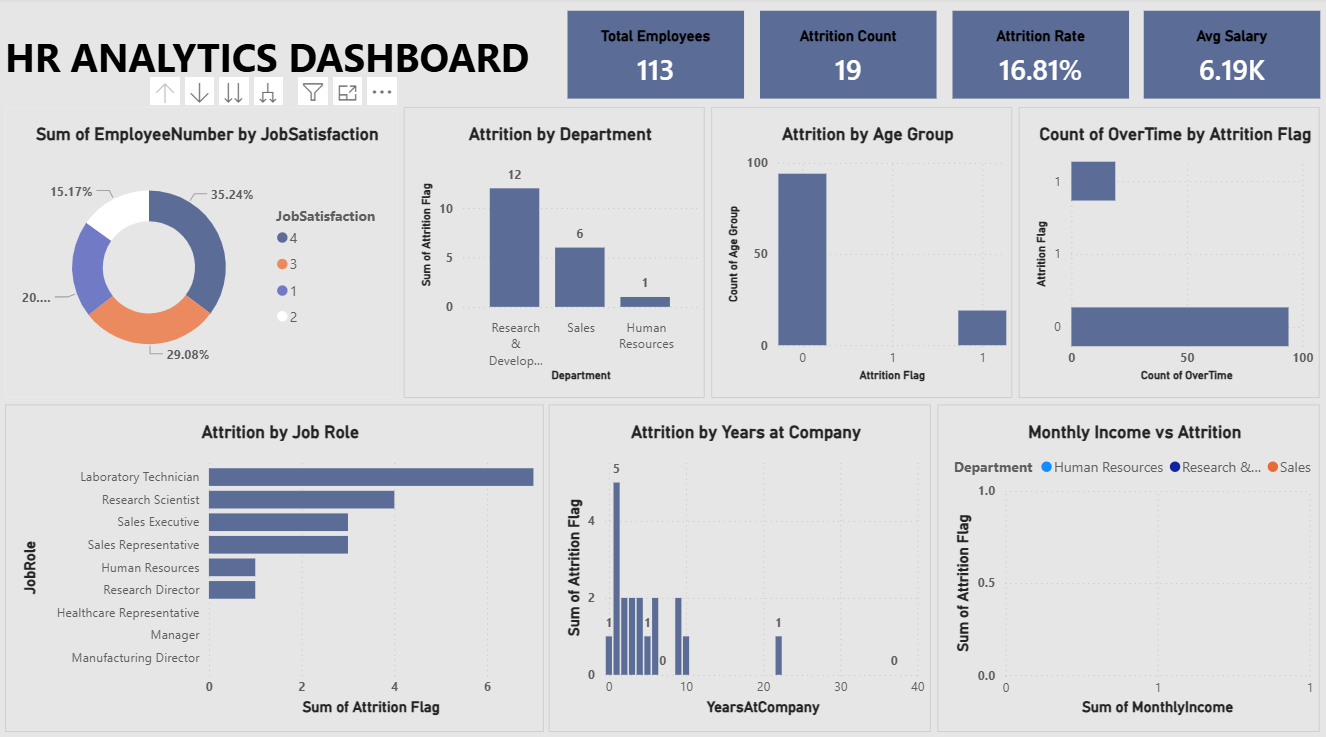

This screenshot's page, from the dashboard's own definition file:
{"tool":"powerbi","page":{"name":"HR Analytics","canvas":[1280,720],"ordinal":0},"visuals":[{"type":"textbox","box":[4.8,27.7,530.8,70],"z":0},{"type":"cardVisual","title":"Total Employees","fields":{"Data":["HR_Analytics_Dashboard_PBI.Total Employees"]},"box":[547.7,13.3,170.1,84.5],"z":1000},{"type":"cardVisual","title":"Attrition Count","fields":{"Data":["HR_Analytics_Dashboard_PBI.Attrition Count"]},"box":[733.5,13.3,170.1,84.5],"z":2000},{"type":"cardVisual","title":"Attrition Rate","fields":{"Data":["HR_Analytics_Dashboard_PBI.Attrition Rate"]},"box":[919.3,13.3,170.1,84.5],"z":3000},{"type":"cardVisual","title":"Avg Salary","fields":{"Data":["HR_Analytics_Dashboard_PBI.Avg Salary"]},"box":[1103.9,13.3,170.1,84.5],"z":4000},{"type":"clusteredColumnChart","title":"Attrition by Department","fields":{"Category":["HR_Analytics_Dashboard_PBI.Department"],"Y":["Sum(HR_Analytics_Dashboard_PBI.Attrition Flag)"]},"box":[389.7,106.2,290.8,281.1],"z":5000},{"type":"barChart","title":"Attrition by Job Role","fields":{"Category":["HR_Analytics_Dashboard_PBI.JobRole"],"Y":["Sum(HR_Analytics_Dashboard_PBI.Attrition Flag)"]},"box":[4.8,393.3,520,316.1],"z":6000},{"type":"columnChart","title":"Attrition by Age Group","fields":{"Category":["HR_Analytics_Dashboard_PBI.Attrition Flag"],"Y":["CountNonNull(HR_Analytics_Dashboard_PBI.Age Group)"]},"box":[686.5,106.2,290.8,281.1],"z":7000},{"type":"scatterChart","title":"Monthly Income vs Attrition","fields":{"X":["Sum(HR_Analytics_Dashboard_PBI.MonthlyIncome)"],"Y":["Sum(HR_Analytics_Dashboard_PBI.Attrition Flag)"],"Series":["HR_Analytics_Dashboard_PBI.Department"],"Category":["HR_Analytics_Dashboard_PBI.EmployeeNumber"]},"box":[904.8,393.3,369.2,316.1],"z":8000},{"type":"clusteredColumnChart","title":"Attrition by Years at Company","fields":{"Category":["HR_Analytics_Dashboard_PBI.YearsAtCompany"],"Y":["Sum(HR_Analytics_Dashboard_PBI.Attrition Flag)"]},"box":[529.6,393.3,369.2,316.1],"z":9000},{"type":"donutChart","fields":{"Category":["HR_Analytics_Dashboard_PBI.JobSatisfaction","HR_Analytics_Dashboard_PBI.Satisfaction Level"],"Y":["Sum(HR_Analytics_Dashboard_PBI.EmployeeNumber)"]},"box":[4.8,106.2,378.8,281.1],"z":10000},{"type":"barChart","fields":{"Y":["CountNonNull(HR_Analytics_Dashboard_PBI.OverTime)"],"Category":["HR_Analytics_Dashboard_PBI.Attrition Flag"]},"box":[983.2,106.2,290.8,281.1],"z":12000}]}

Visuals, with their boxes on the page's 1280x720 design canvas (x1, y1, x2, y2). These are canvas units, not pixel positions in the 1326x737 screenshot, which may show the page scaled, cropped or inside an application window:
textbox: 5 28 536 98
"Total Employees" cardVisual: 548 13 718 98
"Attrition Count" cardVisual: 734 13 904 98
"Attrition Rate" cardVisual: 919 13 1089 98
"Avg Salary" cardVisual: 1104 13 1274 98
"Attrition by Department" clusteredColumnChart: 390 106 680 387
"Attrition by Job Role" barChart: 5 393 525 709
"Attrition by Age Group" columnChart: 686 106 977 387
"Monthly Income vs Attrition" scatterChart: 905 393 1274 709
"Attrition by Years at Company" clusteredColumnChart: 530 393 899 709
donutChart - HR_Analytics_Dashboard_PBI.JobSatisfaction x HR_Analytics_Dashboard_PBI.Satisfaction Level: 5 106 384 387
barChart - CountNonNull(HR_Analytics_Dashboard_PBI.OverTime) x HR_Analytics_Dashboard_PBI.Attrition Flag: 983 106 1274 387
